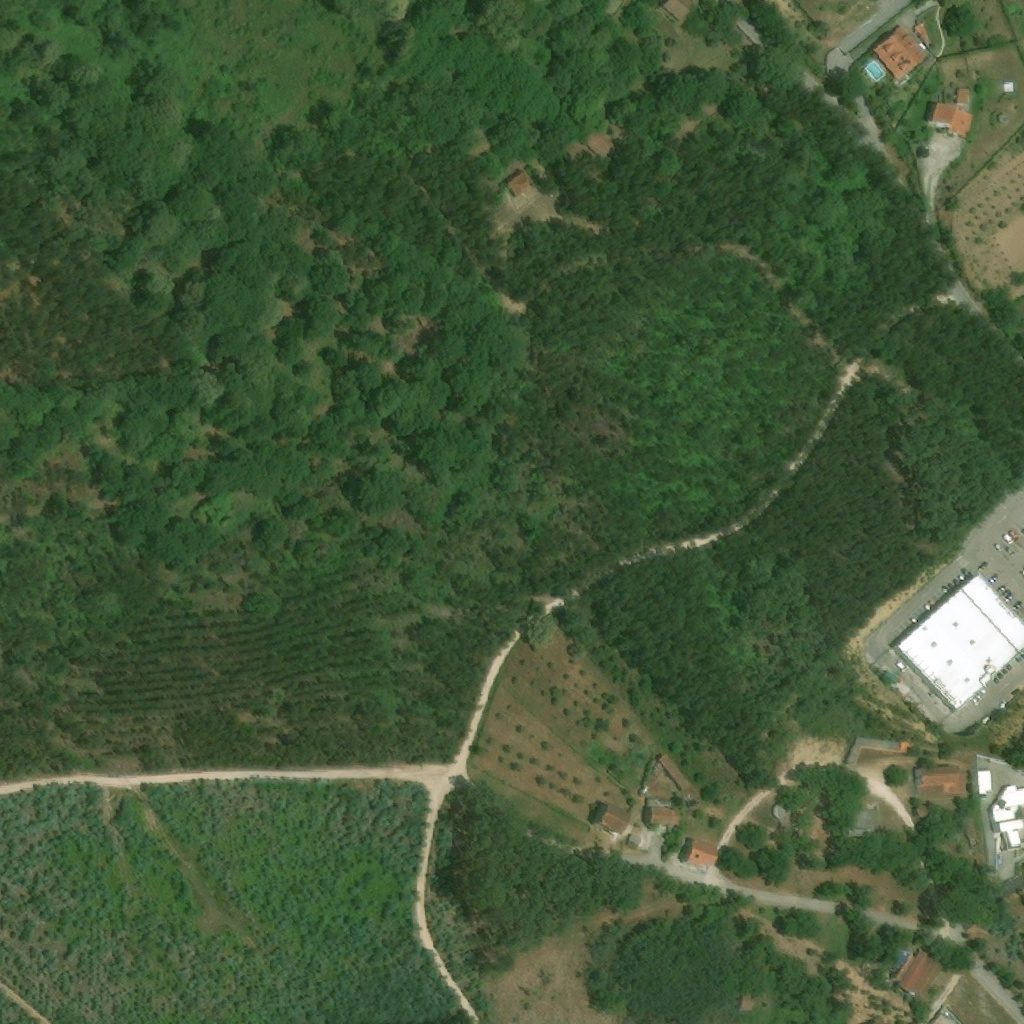0 no-damage: (889, 577, 1023, 713), (872, 26, 923, 80), (886, 948, 941, 996), (987, 785, 1023, 850), (926, 101, 972, 137), (914, 766, 967, 797), (844, 737, 897, 765), (594, 802, 632, 836), (658, 753, 691, 791), (844, 802, 878, 837), (644, 797, 678, 825), (683, 840, 717, 866), (580, 130, 610, 157), (505, 173, 530, 198), (771, 803, 791, 828), (913, 24, 930, 47), (977, 771, 991, 796), (955, 88, 969, 106), (626, 834, 641, 847), (1002, 81, 1014, 92)
4 un-classified: (661, 0, 694, 21)
